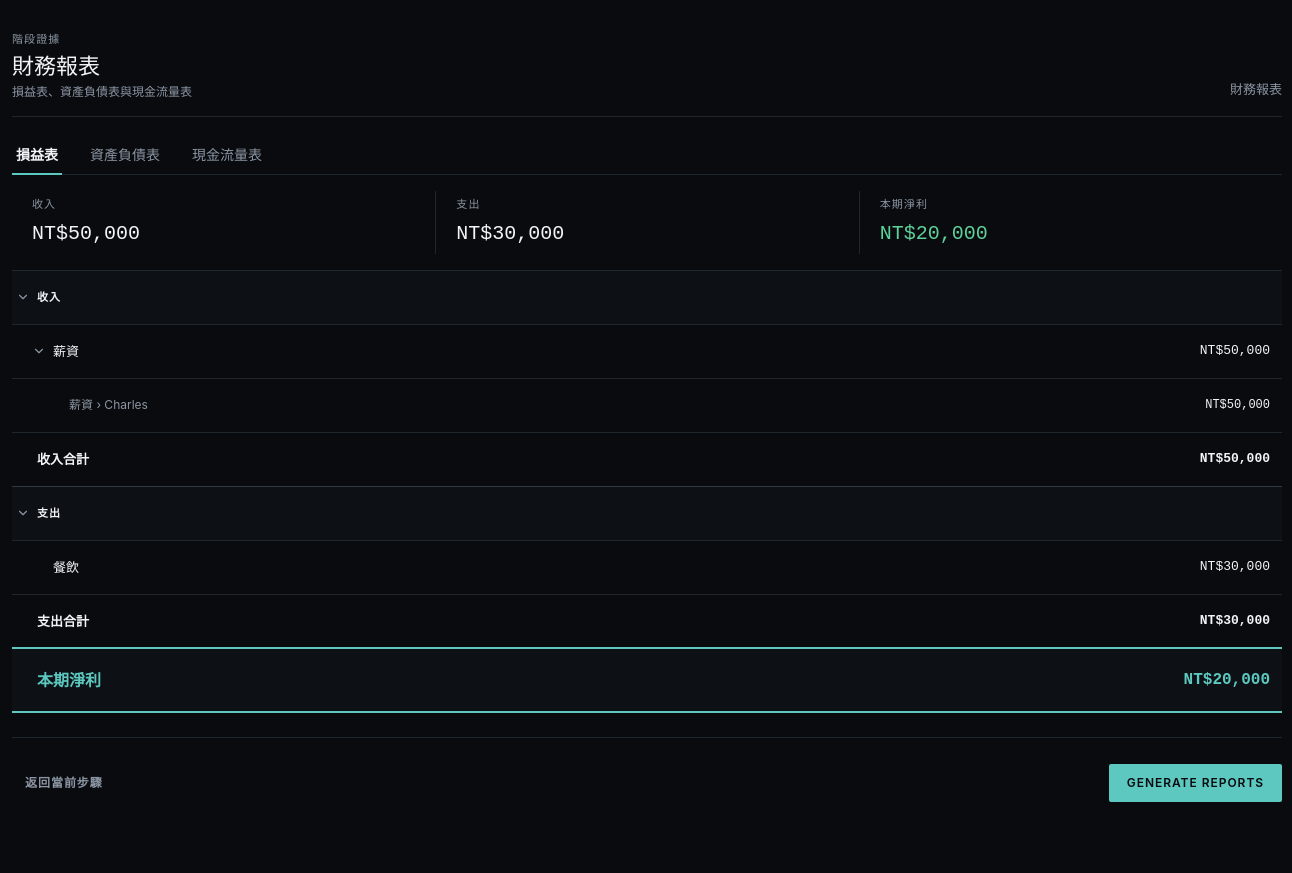
it: CloseFinancialReports › renders the balance sheet sections, group totals and the closing liabilities + equity row
Step 1. Press the mouse on the tab "資產負債表" → (125,158), box [86,141,164,175]
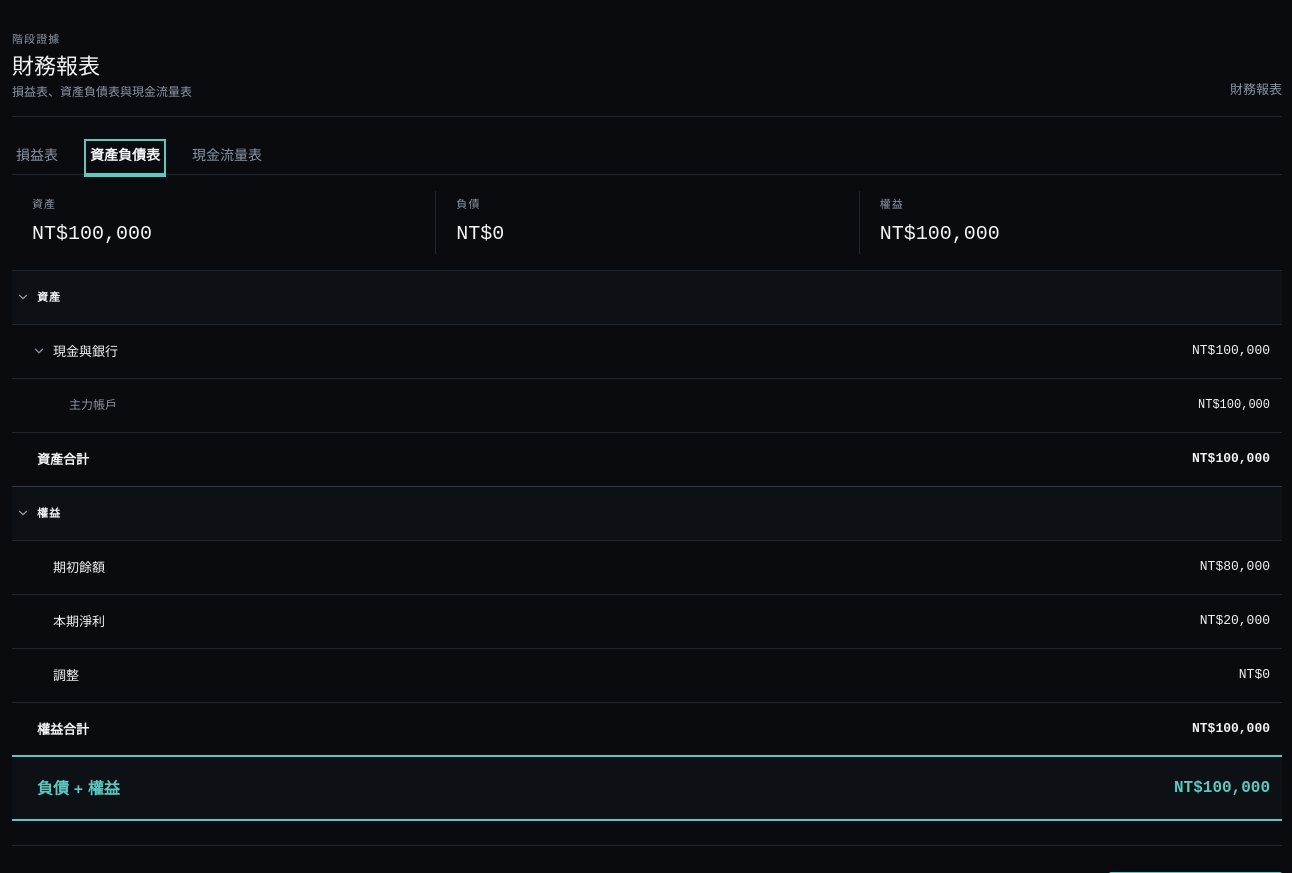
Result: the element with test id "close-balance-sheet" shows "資產" at [32,199,56,211]
Result: the element with test id "close-balance-sheet" shows "現金與銀行" at [53,343,118,359]
Result: the element with test id "close-balance-sheet" shows "資產合計" at [37,451,89,467]
